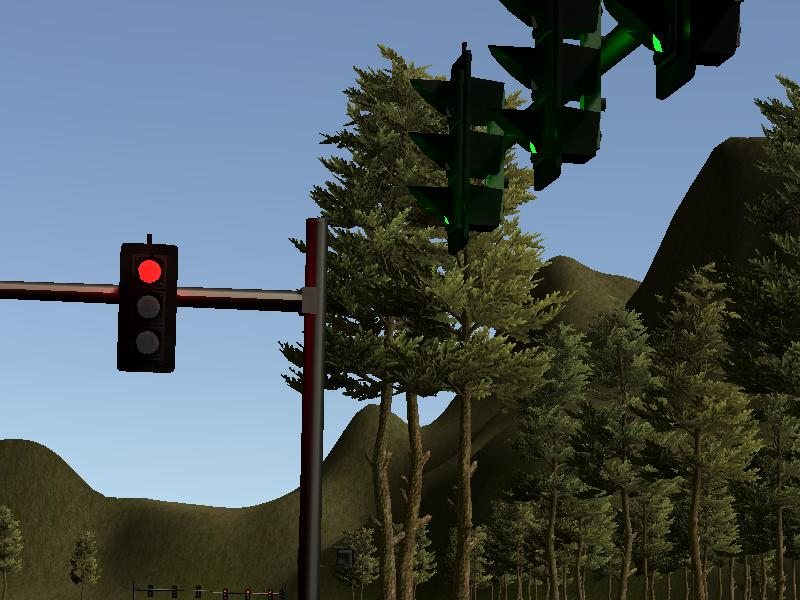Red: (119, 243, 174, 373)
